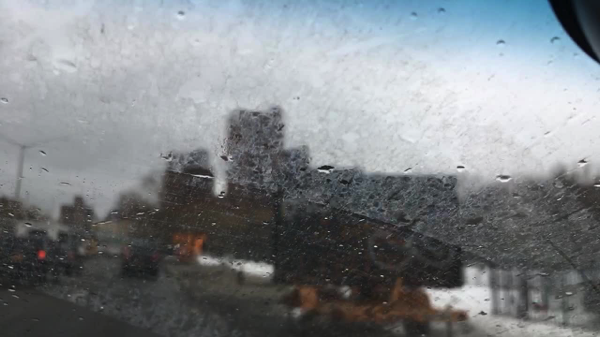car: (2, 237, 72, 294), (15, 221, 86, 258), (121, 237, 159, 278), (81, 233, 97, 256)
